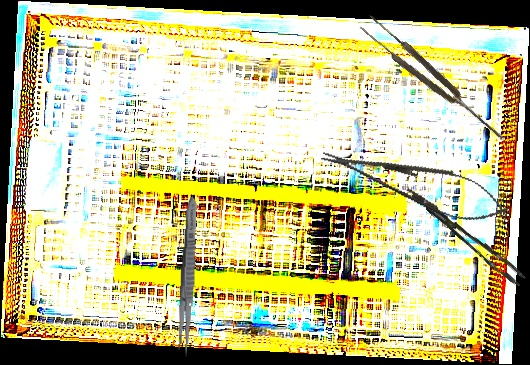Dressing Forceps: (175, 196, 201, 358)
Needle Holder: (315, 132, 515, 234)
Tissue Forceps: (357, 12, 511, 149), (425, 191, 527, 296)
